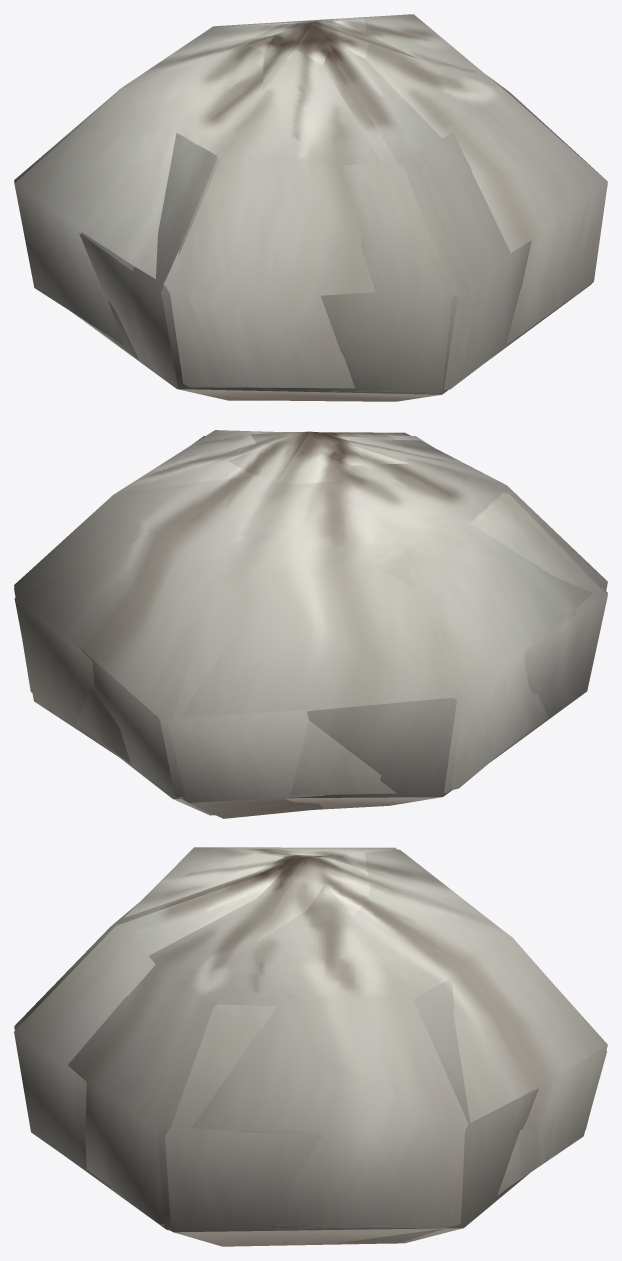
The model's file is Item0101.obj.
3 views of the same model, one above another, from view 1: azimuth 30°, elevation 25°; view 2: azimuth 150°, elevation 25°; view 3: azimuth 270°, elevation 25° (orthographic). The views are drawn at different scales.
Visible parts, largest first — view 1: 1, 2, 0; view 2: 0, 1, 2; view 3: 2, 1, 0.
Boxes of the visible parts, x1,y1,x2,y2 form: 1: (14, 19, 604, 389); 2: (72, 14, 607, 400); 0: (14, 14, 607, 401); 0: (14, 431, 607, 815); 1: (14, 432, 607, 818); 2: (14, 430, 607, 815); 2: (14, 853, 606, 1243); 1: (14, 847, 541, 1246); 0: (68, 849, 607, 1230).
Bounding box in the file's own units: 9.71 × 6.52 × 10.76.
